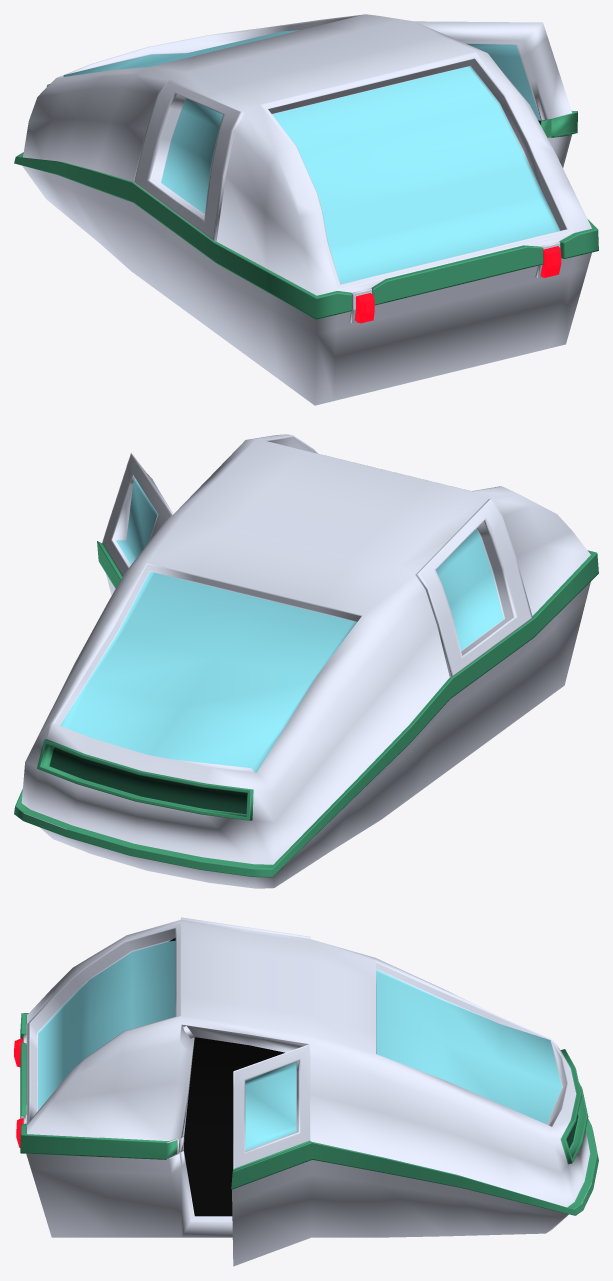
File: Car.fbx
3 renders of one model, top to bottom at view 1: azimuth 30°, elevation 25°; view 2: azimuth 150°, elevation 25°; view 3: azimuth 270°, elevation 25°, orthographic. The views are drawn at different scales.
Parts seen in each view (by area): view 1: Cube.004; view 2: Cube.004; view 3: Cube.004.
Part boxes in pixels (<box>): Cube.004: <box>14,14,598,405</box>; Cube.004: <box>14,434,598,888</box>; Cube.004: <box>14,917,598,1266</box>.
Size of the model in its own units: 913 by 533 by 1306.
